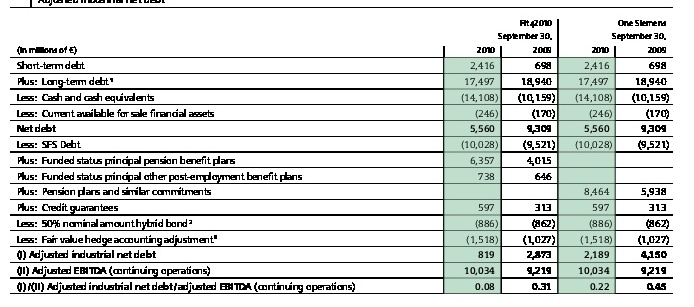table: (0, 0, 694, 307)
